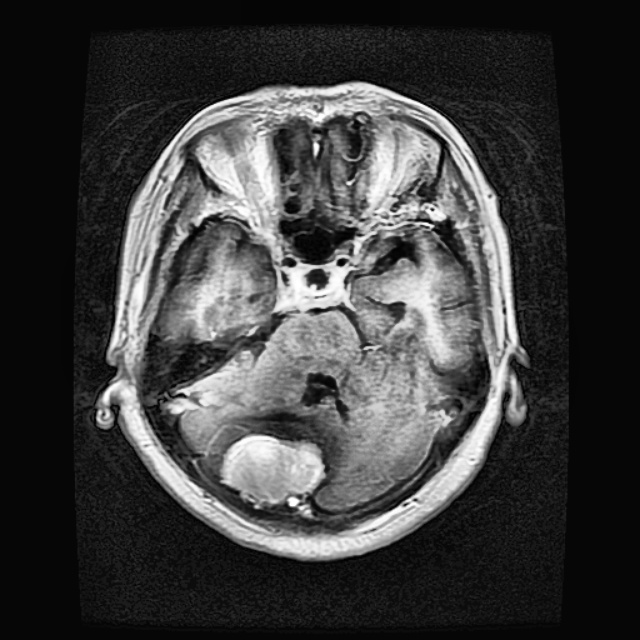Pituitary: (220, 434, 324, 518)
